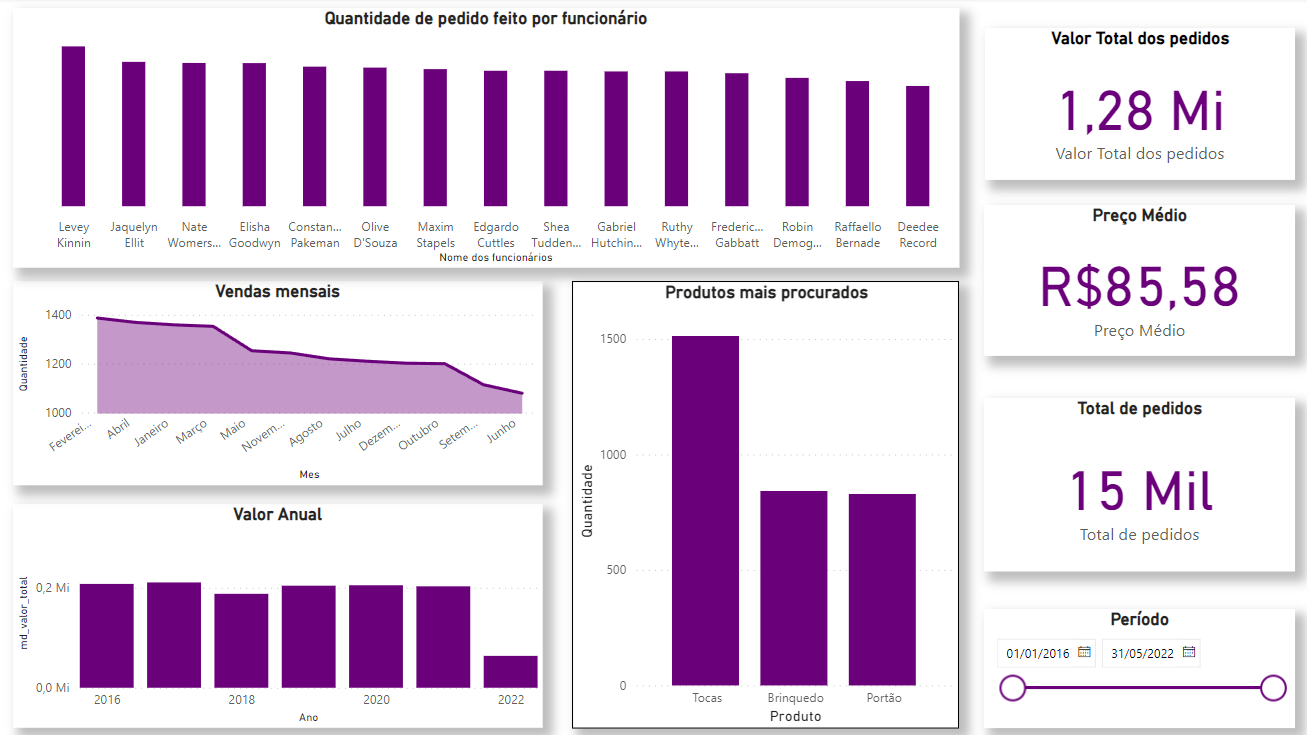

What the dashboard file says about the page in this screenshot:
{"tool":"powerbi","page":{"name":"Loja","canvas":[1280,720],"ordinal":0},"visuals":[{"type":"card","title":"Valor Total dos pedidos","fields":{"Values":["Sum(public ft_pedidos.md_valor_total)"]},"box":[959,29.2,302.5,147.8],"z":0},{"type":"card","title":"Total de pedidos","fields":{"Values":["Sum(public ft_pedidos.md_qtd)"]},"box":[958.1,390,303.5,169.2],"z":1000},{"type":"clusteredColumnChart","title":"Valor Anual","fields":{"Y":["Sum(public ft_pedidos.md_valor_total)"],"Category":["public dim_data.nk_data.Variation.Hierarquia de datas.Ano"]},"box":[12.6,493.1,515.5,217.9],"z":2000},{"type":"slicer","title":"Período","fields":{"Values":["public dim_data.nk_data"]},"box":[958.1,595.3,303.5,115.7],"z":3000},{"type":"stackedAreaChart","title":"Vendas mensais","fields":{"Category":["public dim_data.nm_mes"],"Y":["Sum(public ft_pedidos.md_qtd)"]},"box":[12.6,275.3,515.5,199.4],"z":4000},{"type":"ribbonChart","title":"Quantidade de pedido feito por funcionário","fields":{"Category":["public dim_funcionarios.nm_funcionarios"],"Y":["Sum(public ft_pedidos.md_qtd)"]},"box":[12.7,9.7,921.5,253.3],"z":5000},{"type":"card","title":"Preço Médio","fields":{"Values":["_Calculo.Preço Médio"]},"box":[958.1,201.3,303.5,146.9],"z":5001},{"type":"clusteredColumnChart","title":"Produtos mais procurados","fields":{"Category":["public dim_produtos.tipo_produto"],"Y":["Sum(public ft_pedidos.md_qtd)"]},"box":[557.3,275.3,377.4,435.7],"z":5002}]}

Visuals, with their boxes in screenshot pixels (x1, y1, x2, y2), scaled from the page's 1280x720 canvas onto the 1307x735 screenshot:
"Valor Total dos pedidos" card: select_region(979, 30, 1288, 181)
"Total de pedidos" card: select_region(978, 398, 1288, 571)
"Valor Anual" clusteredColumnChart: select_region(13, 503, 539, 726)
"Período" slicer: select_region(978, 608, 1288, 726)
"Vendas mensais" stackedAreaChart: select_region(13, 281, 539, 485)
"Quantidade de pedido feito por funcionário" ribbonChart: select_region(13, 10, 954, 268)
"Preço Médio" card: select_region(978, 205, 1288, 355)
"Produtos mais procurados" clusteredColumnChart: select_region(569, 281, 954, 726)
